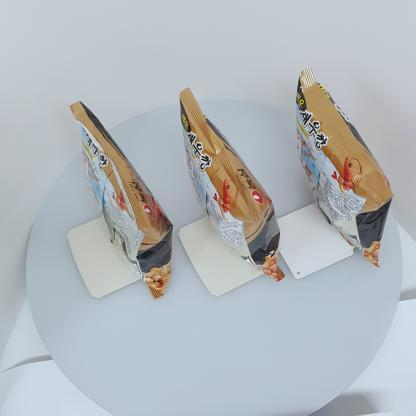Plastic Packaging: (62, 92, 172, 302), (180, 90, 283, 280), (295, 70, 391, 264)
